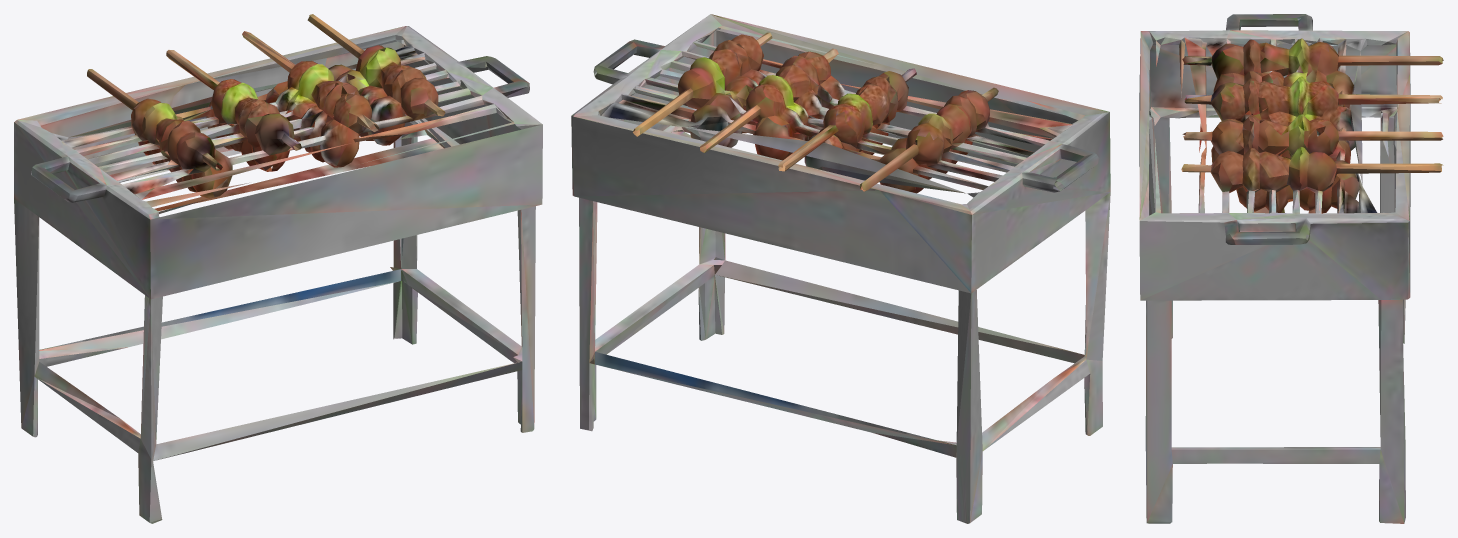
Rendered from grill-charcoal.glb.
3 views of the same model, side by side, from view 1: azimuth 30°, elevation 25°; view 2: azimuth 150°, elevation 25°; view 3: azimuth 270°, elevation 25° (orthographic). The views are drawn at different scales.
Visible parts, largest first — view 1: Mesh_0.8973; view 2: Mesh_0.8973; view 3: Mesh_0.8973.
Part boxes in pixels (<box>): Mesh_0.8973: <box>14,14,542,523</box>; Mesh_0.8973: <box>571,14,1110,523</box>; Mesh_0.8973: <box>1139,14,1443,523</box>.
Bounding box in the file's own units: 1.2 × 0.85 × 0.6865.
1 material, 1 textured.
